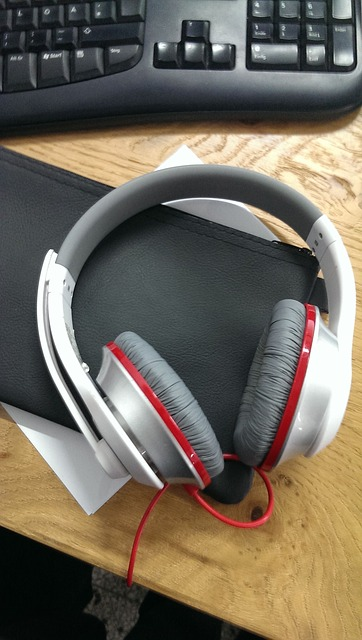headphones: (36, 164, 357, 490)
